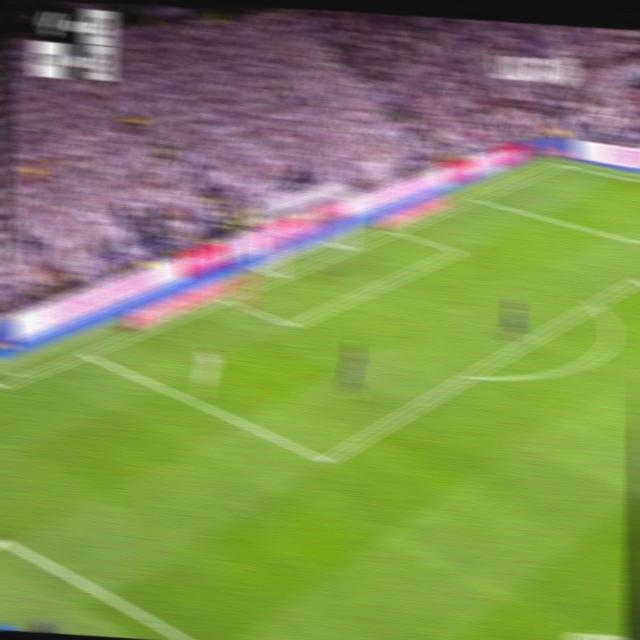bigarea_bottom_inner: (316, 447, 334, 474)
bigarea_bottom_outter: (77, 343, 95, 363)
bigarea_top_outter: (470, 192, 482, 203)
bottom_arc_area_intersection: (460, 363, 480, 386)
corner: (554, 158, 568, 168)
smallarea_bottom_inner: (282, 314, 300, 335)
smallarea_top_inner: (448, 243, 462, 257)
top_arc_area_intersection: (586, 293, 602, 313)
